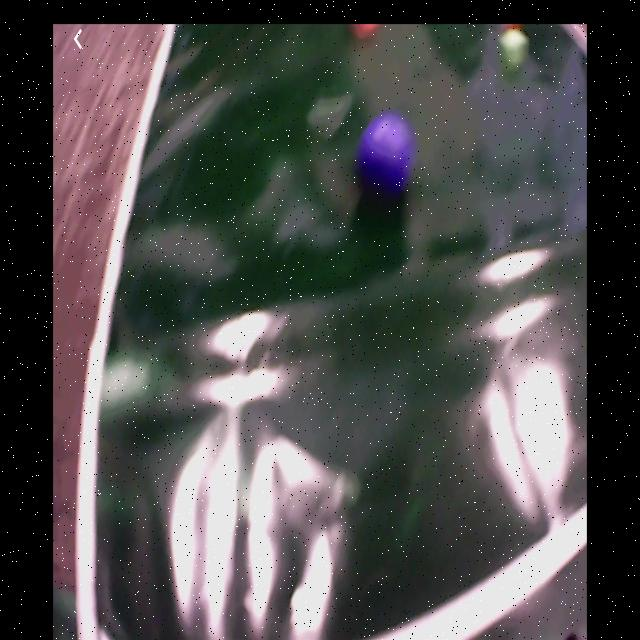ball: (358, 116, 413, 189)
